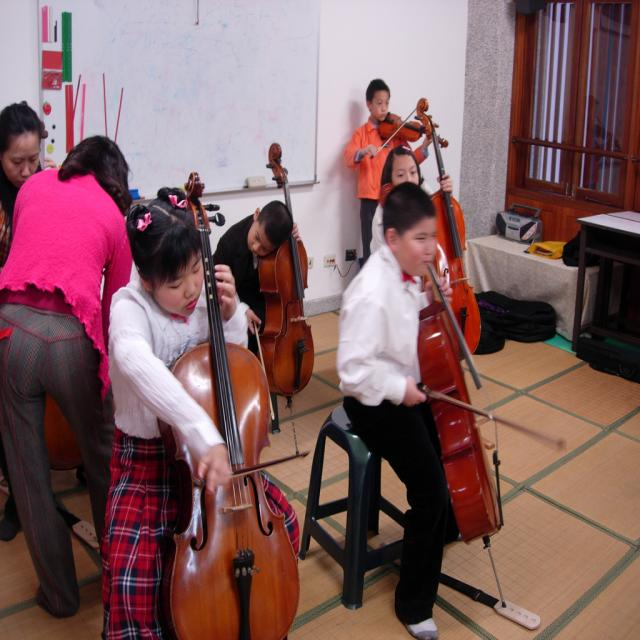cello: (158, 170, 299, 640), (416, 228, 505, 536), (415, 100, 484, 362), (258, 142, 315, 396)
violin: (378, 111, 448, 152)
